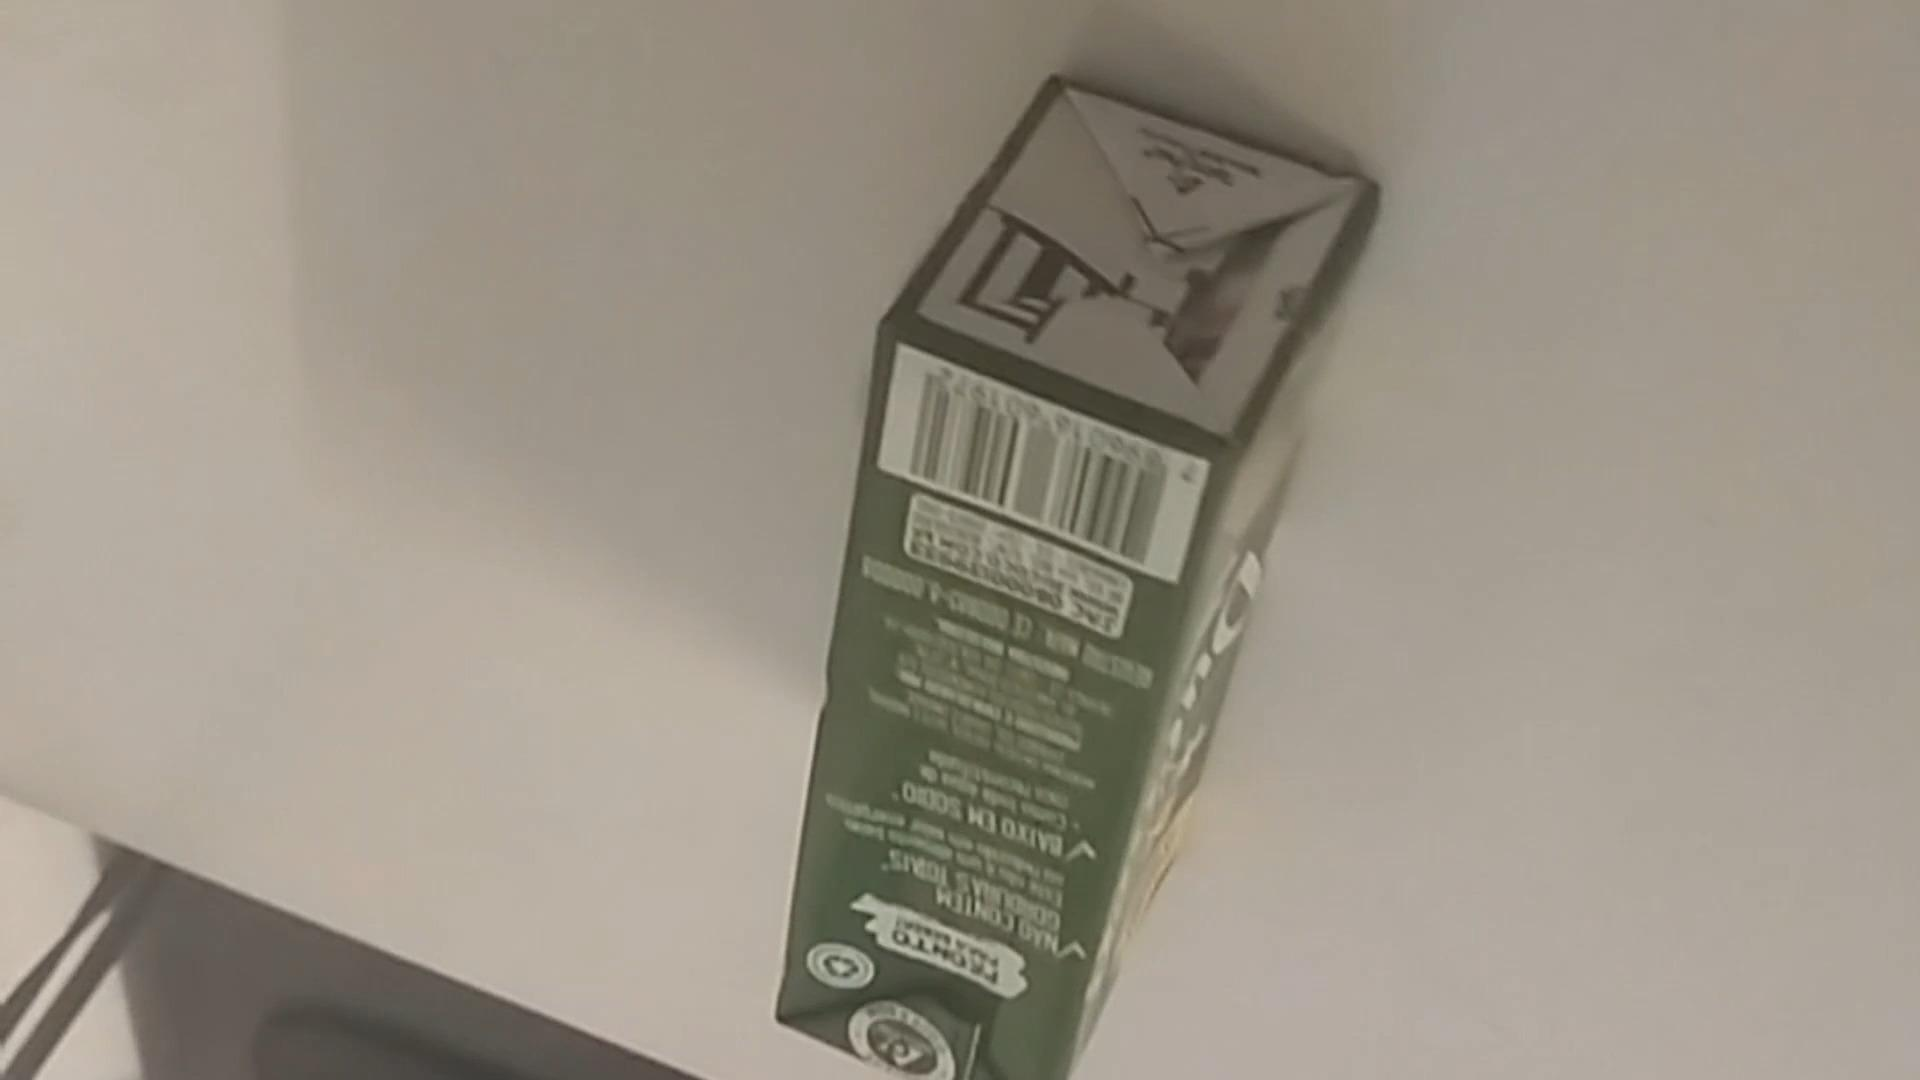coco: (789, 79, 1387, 1080)
